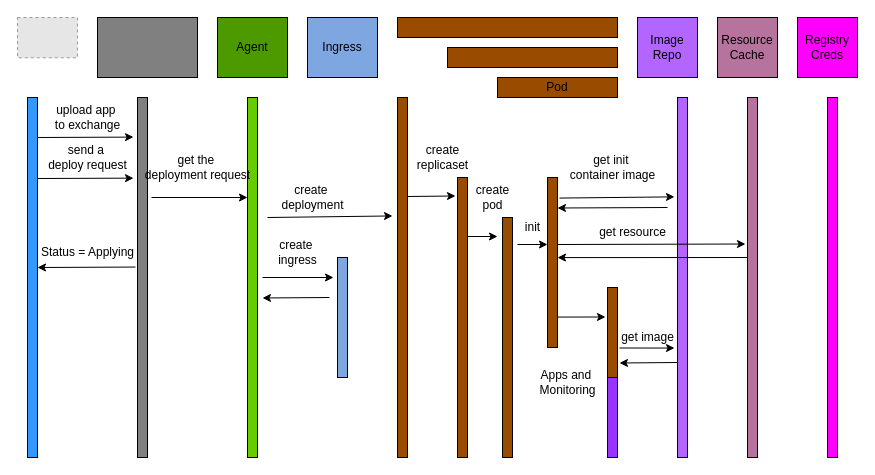
The diagram is 875 pixels wide and 475 high, and some of its shapes have lost their labels. Grey dashed boxes stand in for pictures. Each missing label, with the centre of its shape:
"Anypoint Platform Control Plane" goes at (x=147, y=47).
"Kubernetes Deployment" goes at (x=507, y=27).
"Replica Set" goes at (x=532, y=57).
